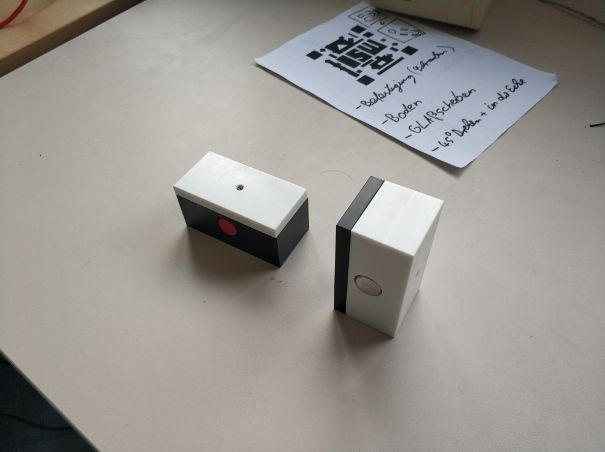black+white+silver: (330, 174, 447, 341)
white+black+red: (169, 149, 312, 270)
